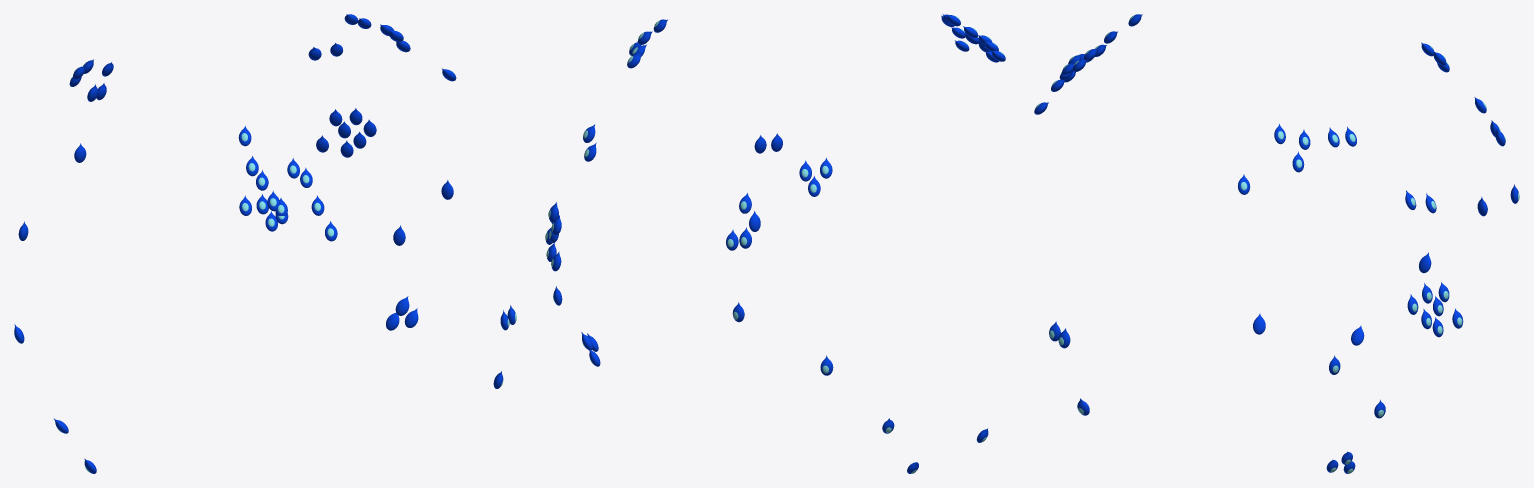
The model's file is drought_post.glb.
The picture shows the model from 3 angles, left to right: view 1: azimuth 30°, elevation 25°; view 2: azimuth 150°, elevation 25°; view 3: azimuth 270°, elevation 25°; orthographic projection.
Size of the model in its own units: 177 by 154 by 185.
